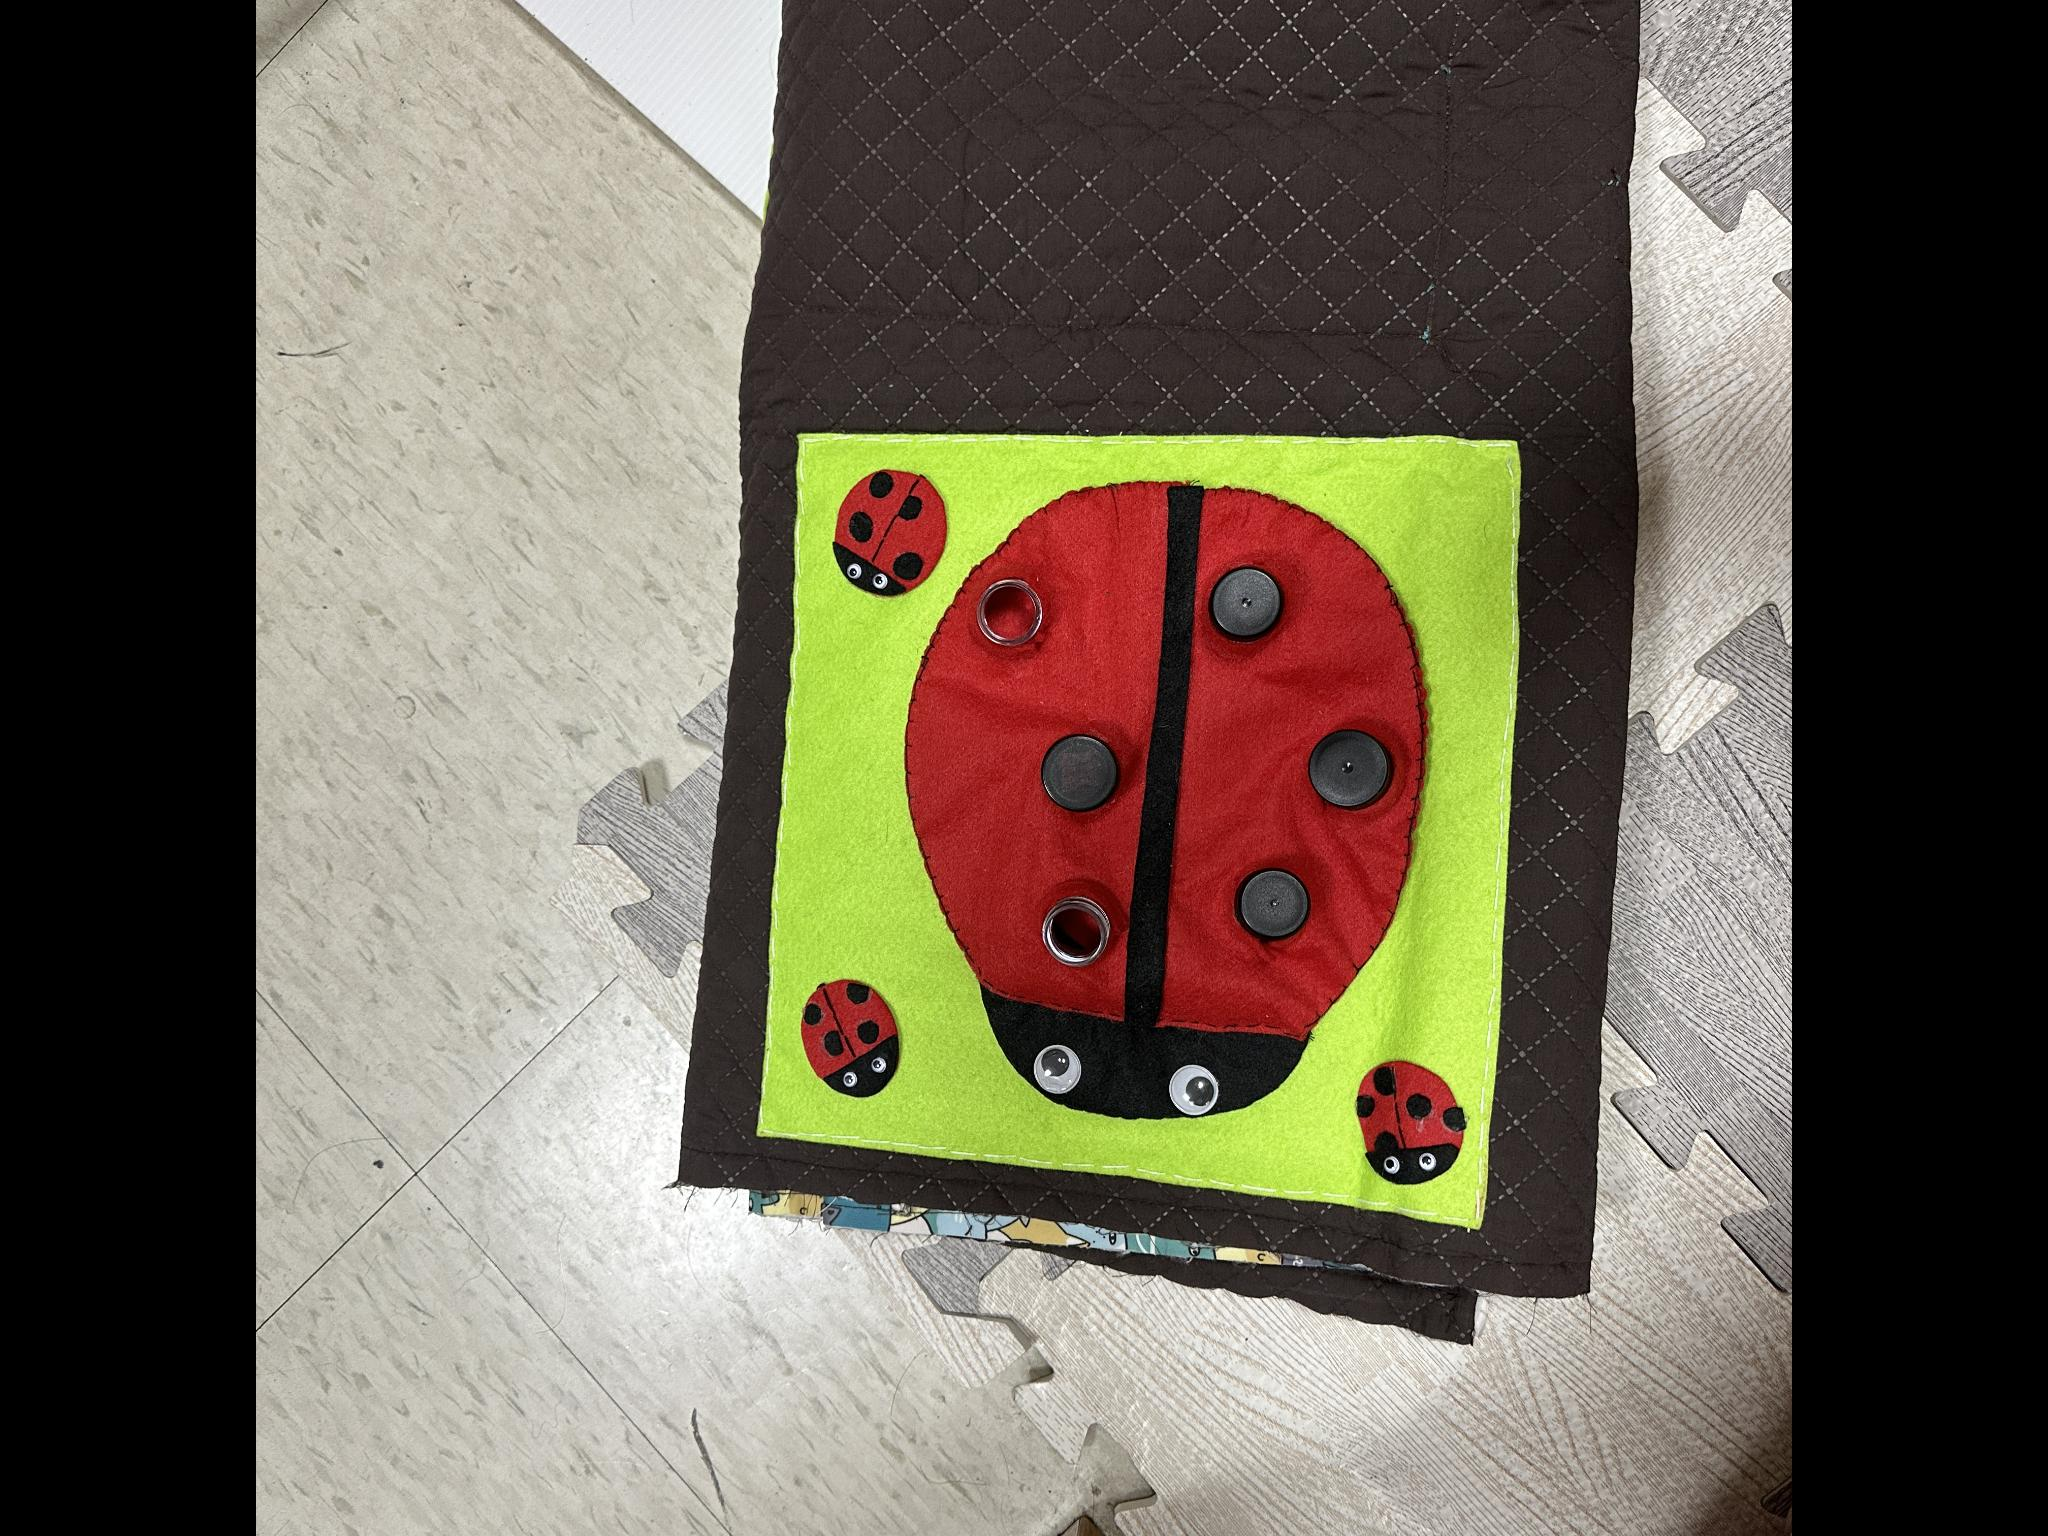cap_ok: (1221, 844, 1327, 975), (1024, 721, 1135, 829), (1298, 715, 1400, 815), (1201, 552, 1293, 641)
